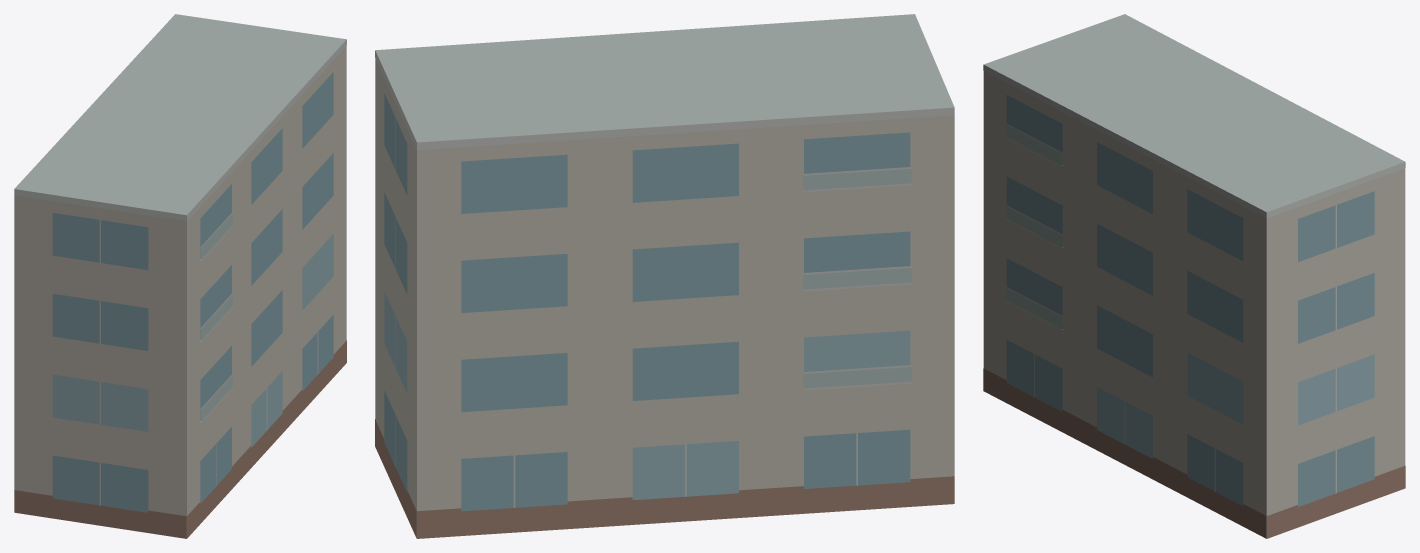
File: survey-upis-33027800.glb
3 views of the same model, side by side, from view 1: azimuth 30°, elevation 25°; view 2: azimuth 150°, elevation 25°; view 3: azimuth 270°, elevation 25° (orthographic). The views are drawn at different scales.
Visible parts, largest first — view 1: survey-upis-33027800.tmp; view 2: survey-upis-33027800.tmp; view 3: survey-upis-33027800.tmp.
Part boxes in pixels (left/top/right/bottom): survey-upis-33027800.tmp: left=14, top=14, right=346, bottom=538; survey-upis-33027800.tmp: left=375, top=14, right=954, bottom=538; survey-upis-33027800.tmp: left=983, top=14, right=1405, bottom=538.
Bounding box in the file's own units: 16.68 × 12.8 × 15.
